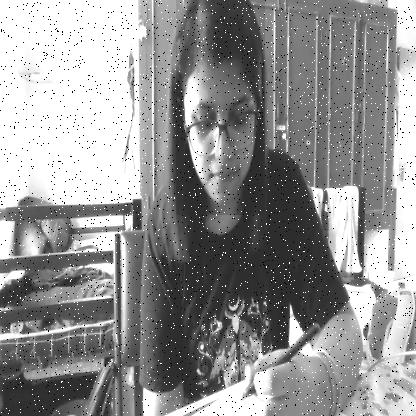Normal: (176, 0, 265, 215)
